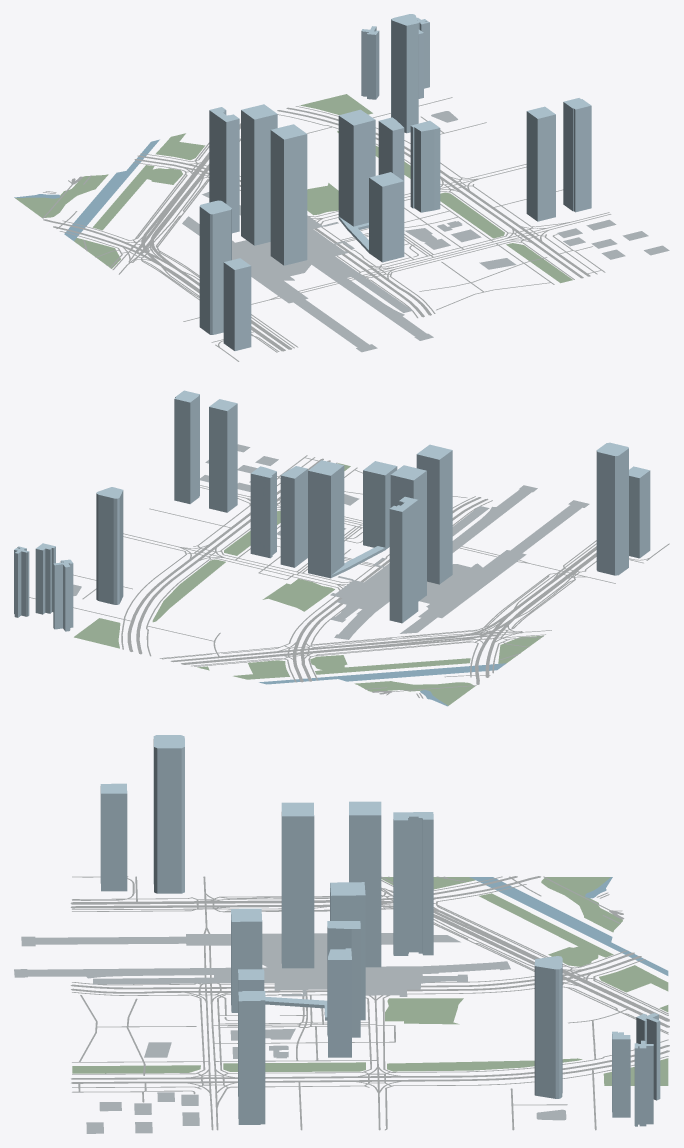
Rendered from -14_0-known-coarse.glb.
3 views of the same model, one above another, from view 1: azimuth 30°, elevation 25°; view 2: azimuth 150°, elevation 25°; view 3: azimuth 270°, elevation 25° (orthographic). The views are drawn at different scales.
Bounding box in the file's own units: 1019 × 280 × 1095.
